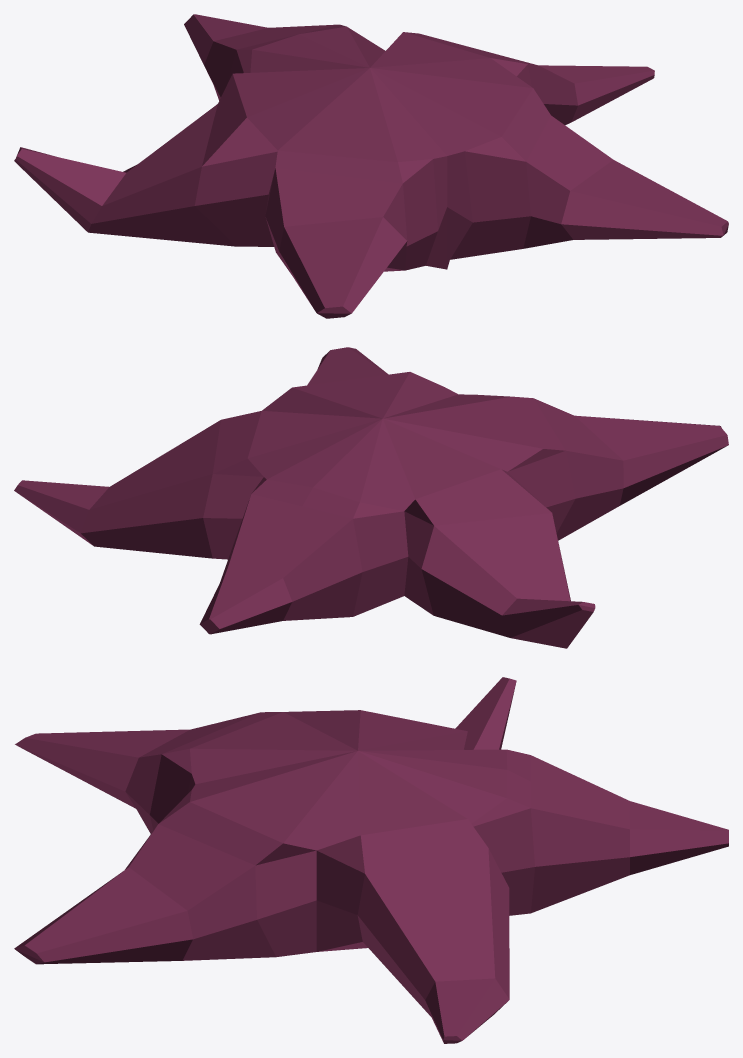
File: Estrella.fbx
The picture shows the model from 3 angles, top to bottom: view 1: azimuth 30°, elevation 25°; view 2: azimuth 150°, elevation 25°; view 3: azimuth 270°, elevation 25°; orthographic projection. The views are drawn at different scales.
Parts seen in each view (by area): view 1: star; view 2: star; view 3: star.
Boxes of the visible parts, bbox=[...] form: star: bbox=[14, 14, 728, 318]; star: bbox=[14, 347, 728, 648]; star: bbox=[14, 677, 728, 1043].
Bounding box in the file's own units: 316 × 78.24 × 304.
